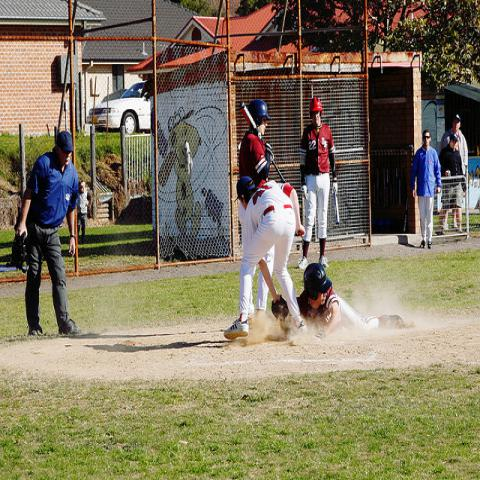car: (87, 82, 152, 135)
